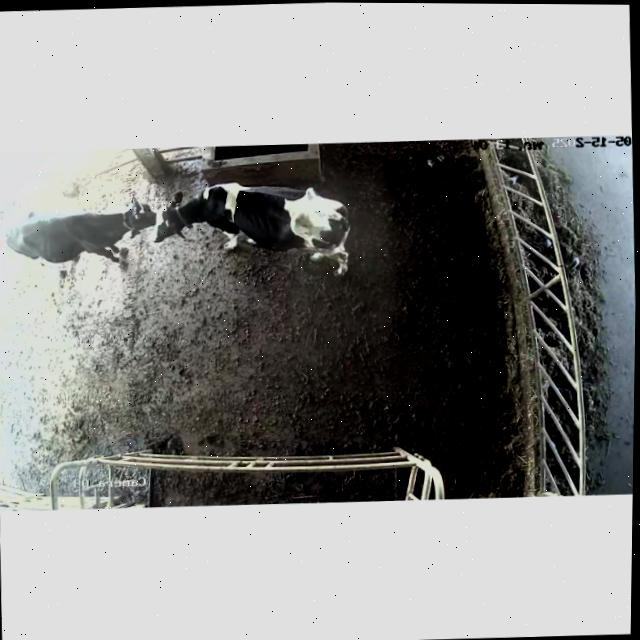stand: (148, 171, 377, 289), (0, 188, 158, 293)
